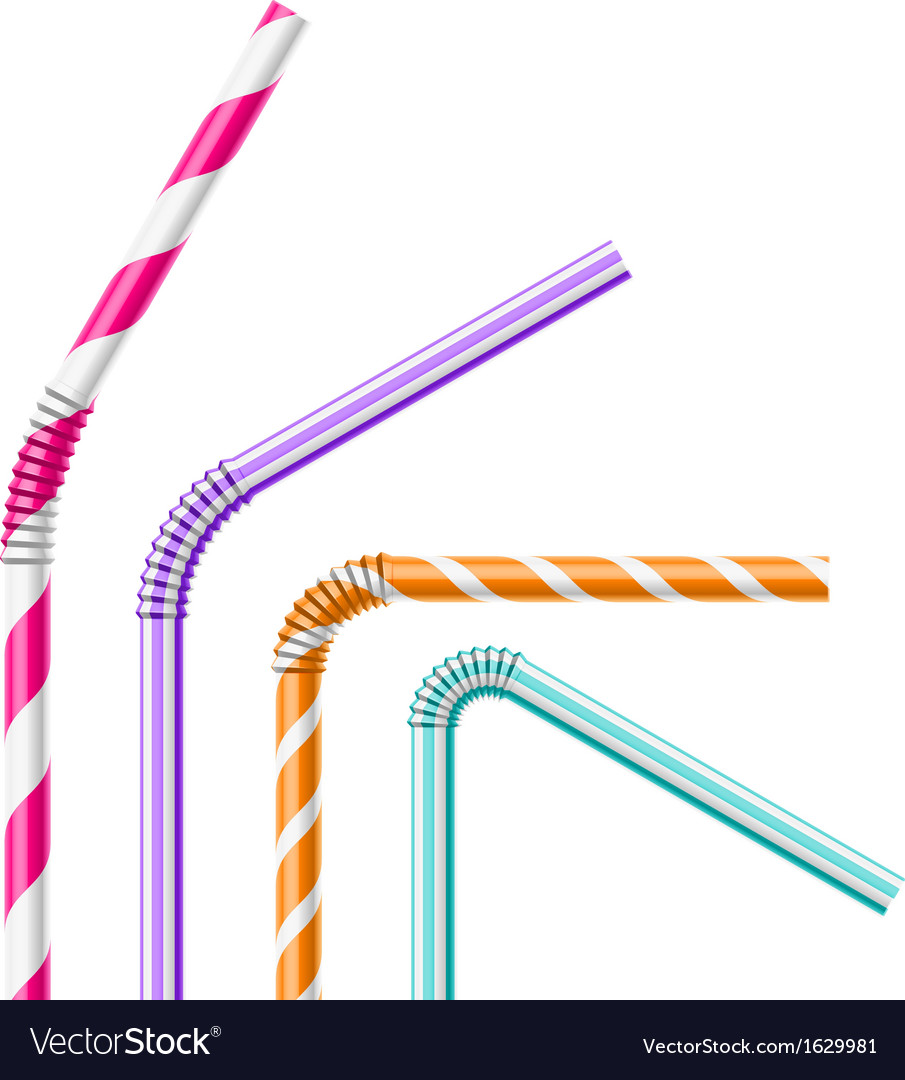Drinking Straw: (396, 632, 905, 998)
